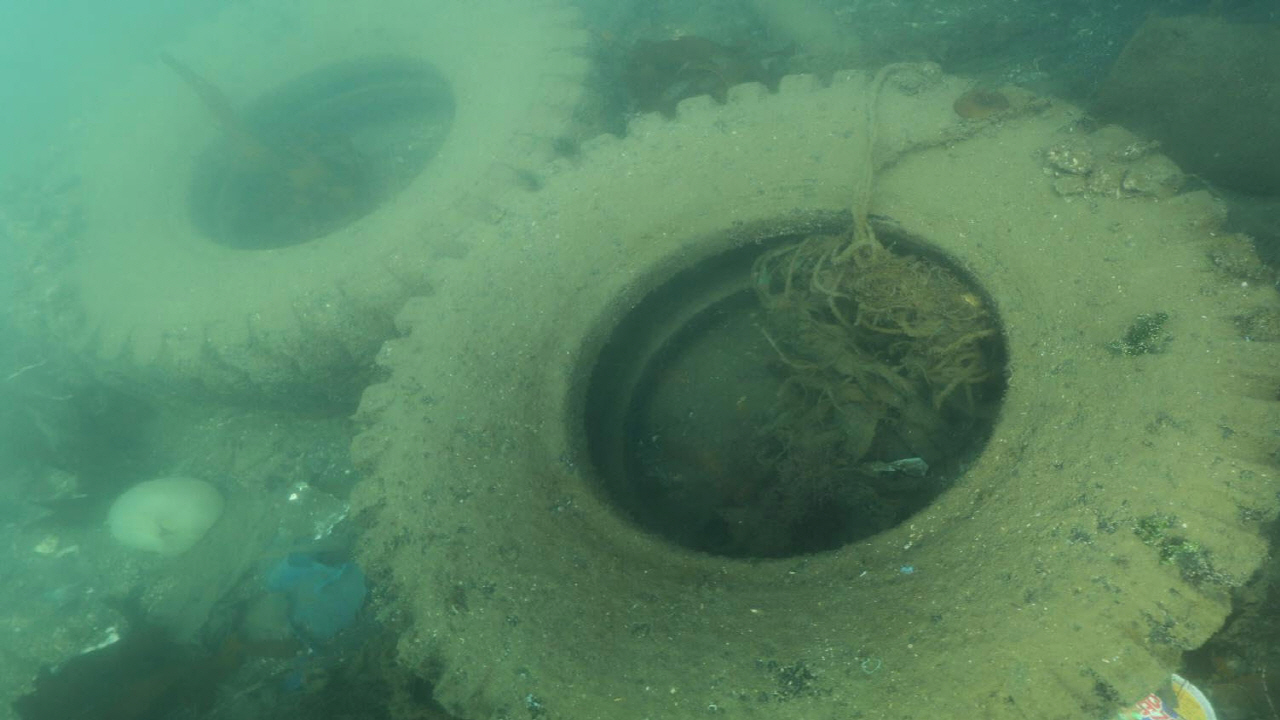bundle of ropes: (757, 58, 1050, 399)
tire: (345, 58, 1280, 720), (26, 0, 626, 415)
